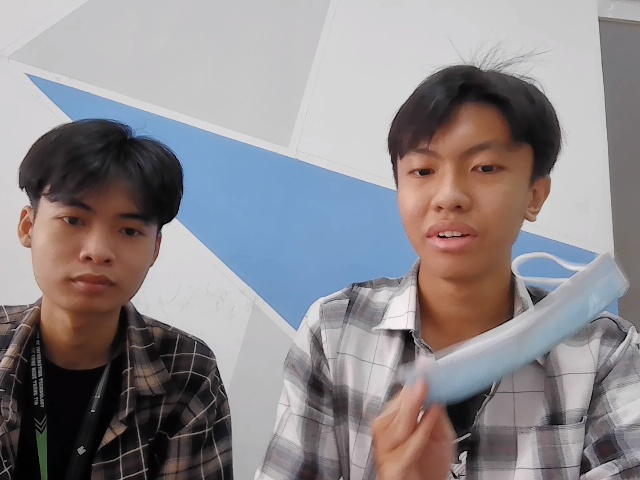human: (380, 53, 554, 271), (18, 113, 182, 315)
mask: (399, 244, 637, 407)
